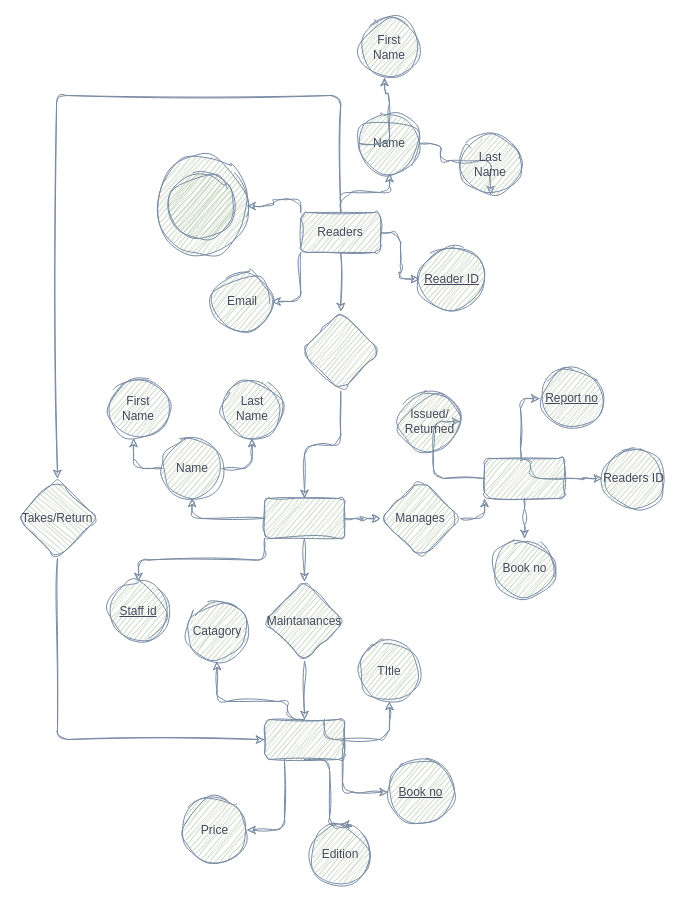
Image size: 683x909. Some labels were removed from this diagram. The centre of each missing label's shape, as x and y in pixels:
Books: the point at 304,739
Keeps Track of: the point at 340,351
Phone Number: the point at 201,205
Reports: the point at 524,478
Staff: the point at 304,518
